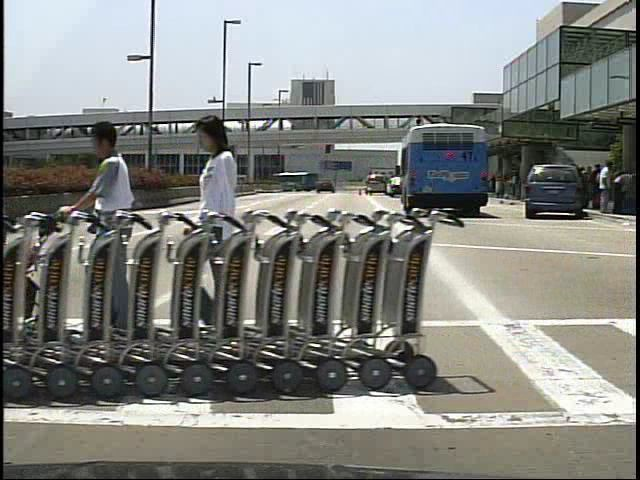person: (183, 112, 268, 350), (70, 120, 150, 339), (597, 160, 618, 216), (589, 161, 605, 215)
